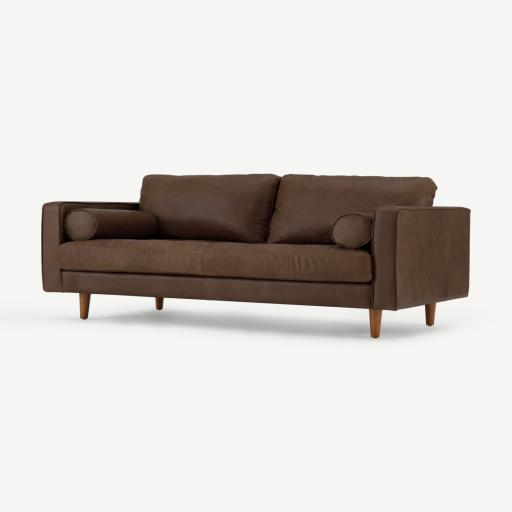back_cushion: (139, 174, 435, 243)
base: (61, 271, 370, 308)
left_arm: (371, 206, 469, 310)
legs: (370, 309, 382, 338), (80, 294, 90, 319), (426, 305, 435, 326), (156, 298, 163, 310)
right_arm: (42, 202, 137, 291)
seat_cushion: (58, 239, 371, 282)
two-seater: (0, 0, 511, 512)
